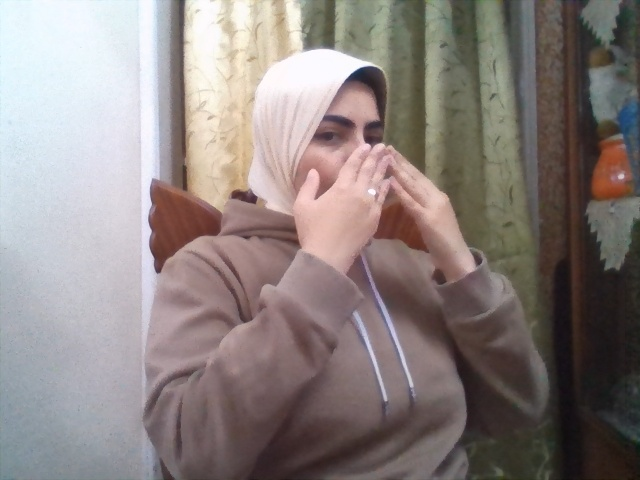thanks: (294, 144, 473, 266)
